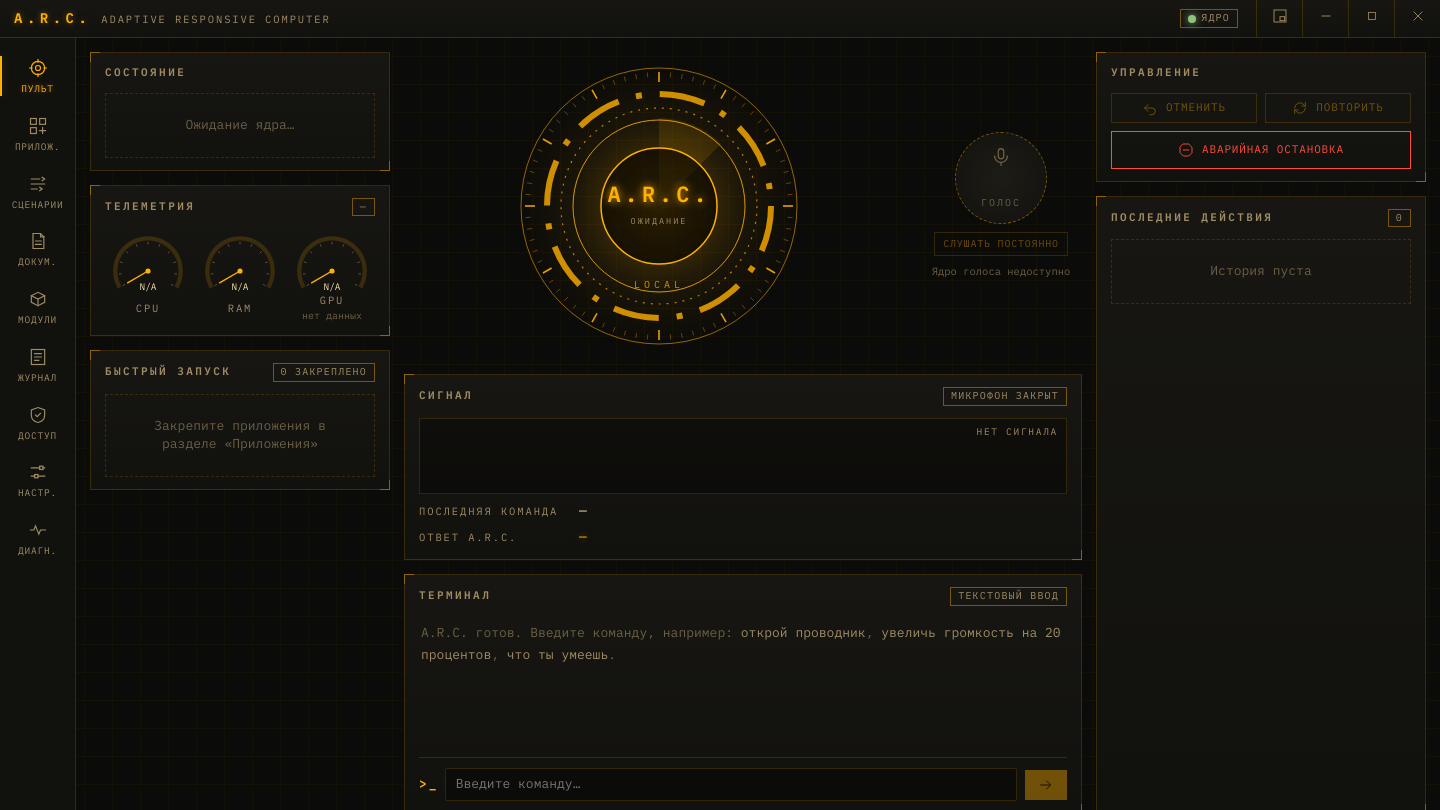
Test: local AI › marks answers proposed by the local model and shows rejected proposals
Type "хочу записать мысль" into the field with test id "command-input" at (731,785), box [445, 768, 1017, 801]
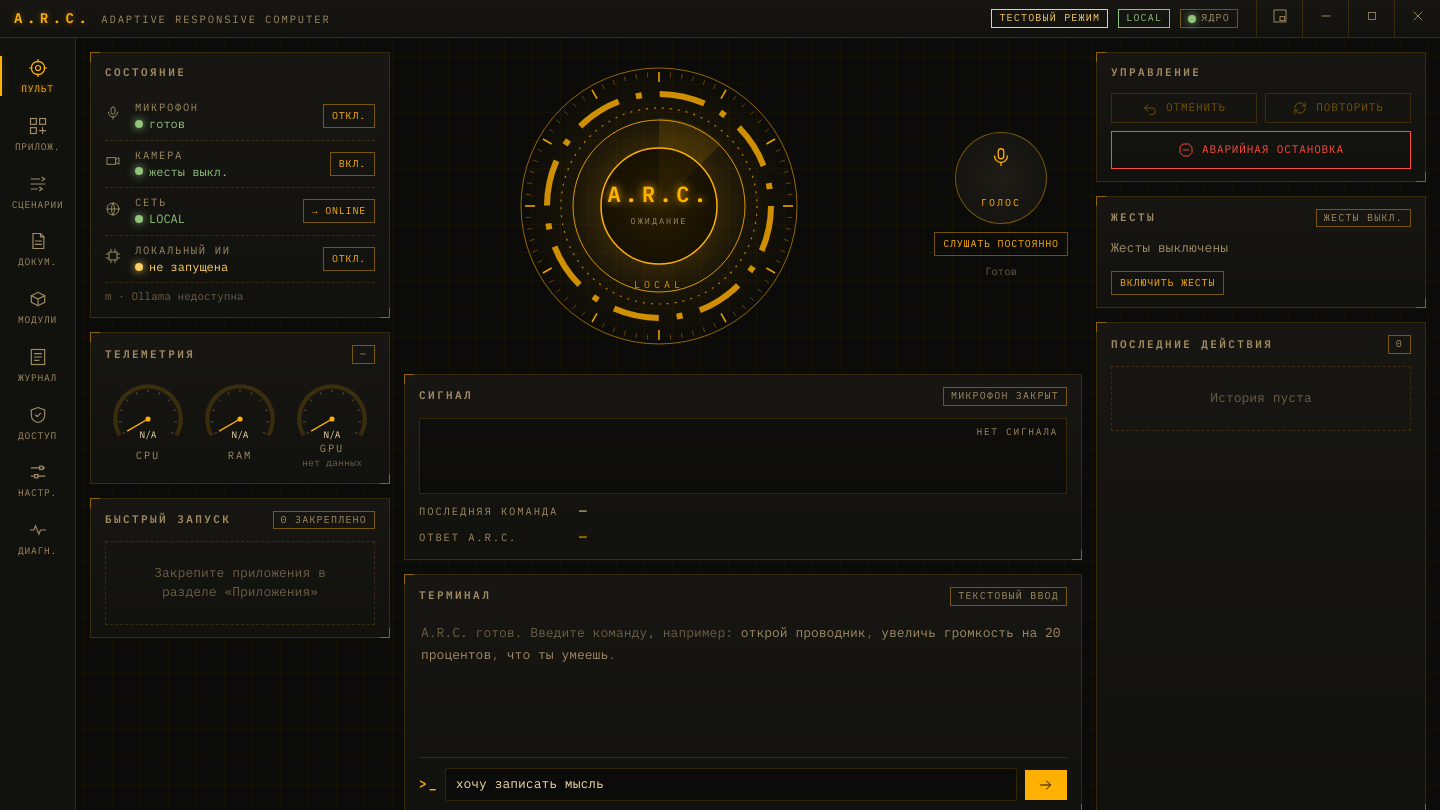
Click the button with test id "command-send" at (1046,785), box [1025, 770, 1067, 800]
(page scrolled)
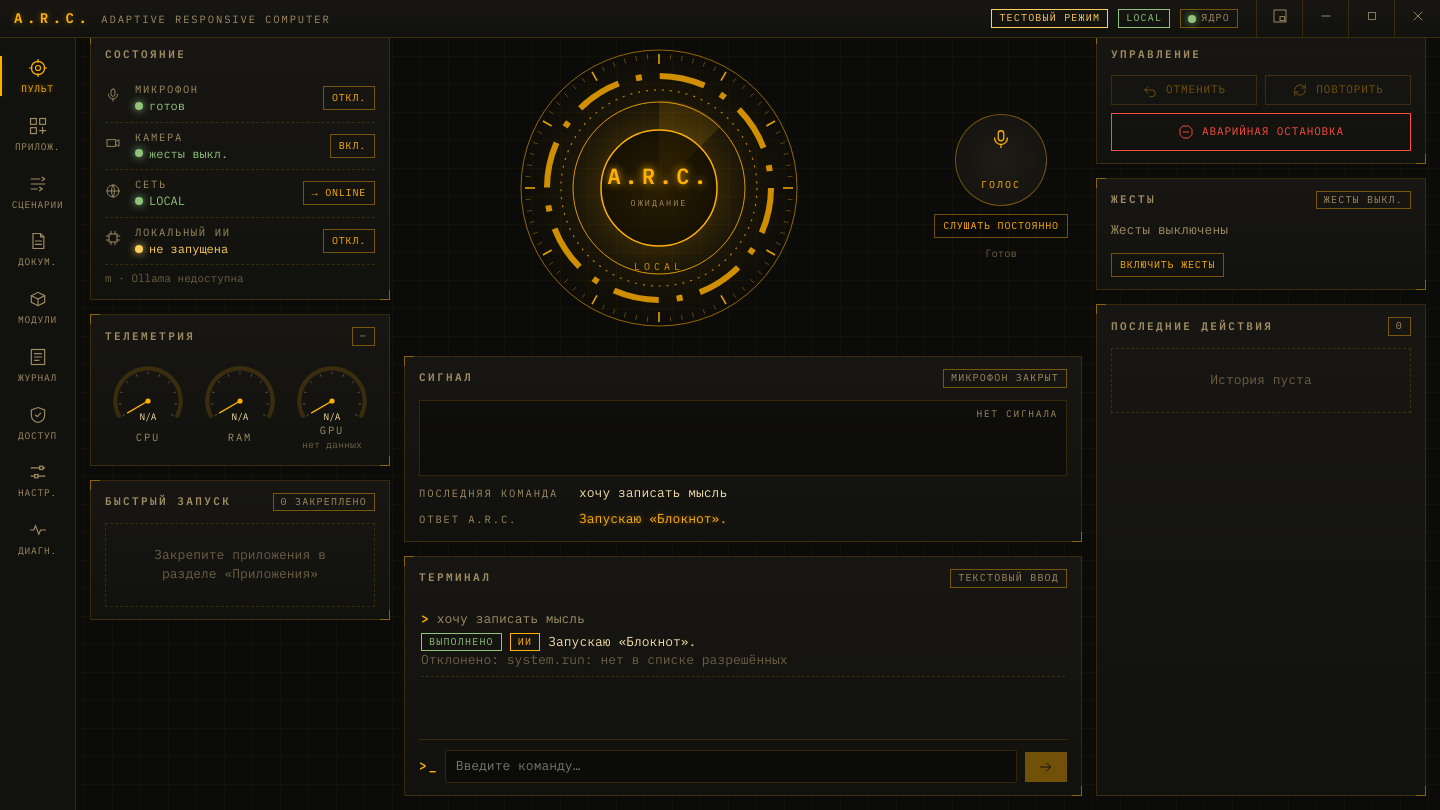
Check: the element with test id "terminal" shows "ИИ", box [518, 634, 532, 648]
Check: the element with test id "terminal" shows "Отклонено: system.run", box [404, 556, 1082, 796]
